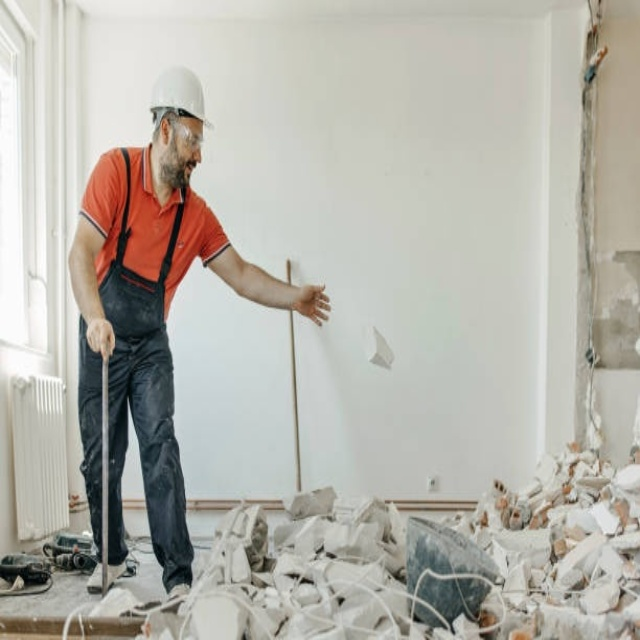Gafas: (168, 117, 205, 151)
Sin_guantes: (294, 280, 332, 325), (84, 315, 115, 359)
Sin_mascara: (178, 158, 200, 188)
